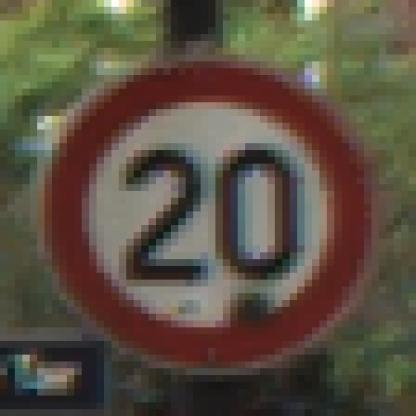Speed Limit 20: (55, 68, 369, 364)
